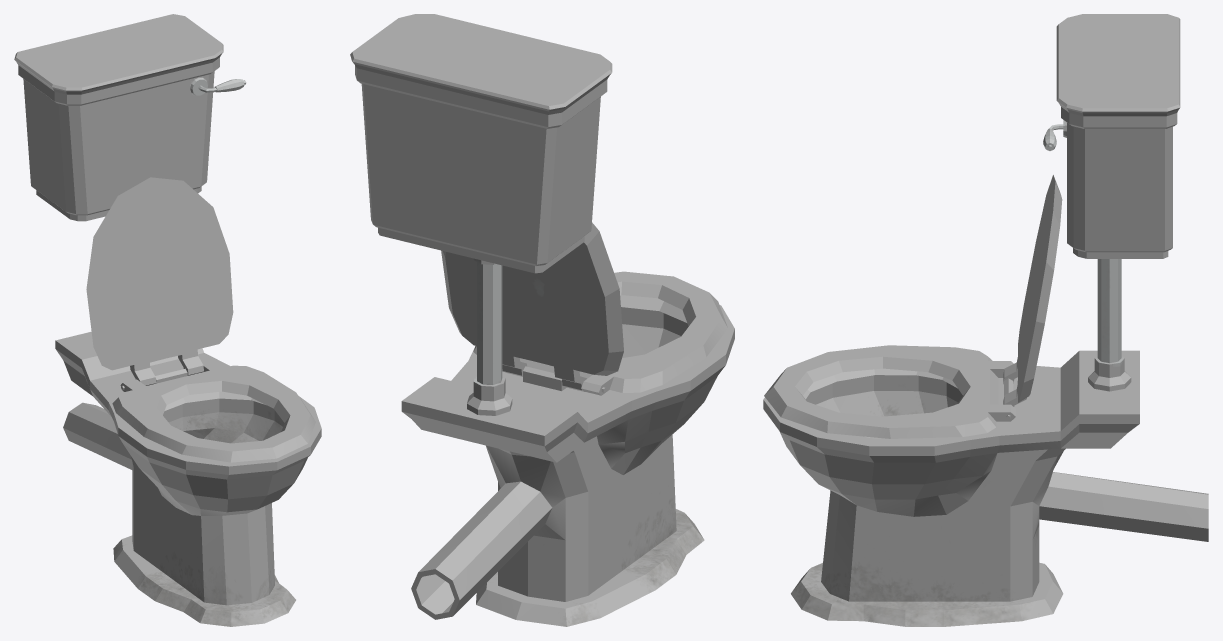
The model's file is toilet2.FBX.
The picture shows the model from 3 angles, left to right: view 1: azimuth 30°, elevation 25°; view 2: azimuth 150°, elevation 25°; view 3: azimuth 270°, elevation 25°; orthographic projection. The views are drawn at different scales.
Visible parts, largest first — view 1: toilet2; view 2: toilet2; view 3: toilet2.
Boxes of the visible parts, box(x1,y1,x2,y2) form: toilet2: box(14, 14, 321, 626); toilet2: box(350, 14, 734, 626); toilet2: box(763, 14, 1208, 626).
Size of the model in its own units: 1.09 by 2.71 by 2.05.
Materials: 1 (1 with a texture image).
